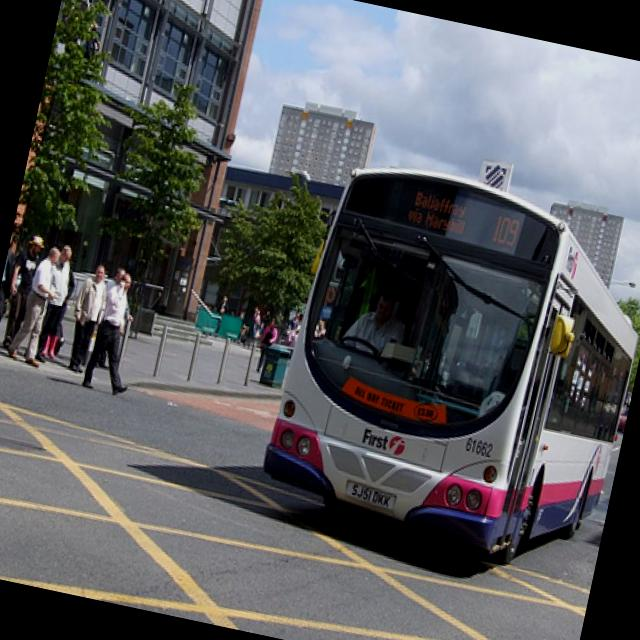Vehicle: (251, 144, 640, 583), (618, 406, 628, 432)
